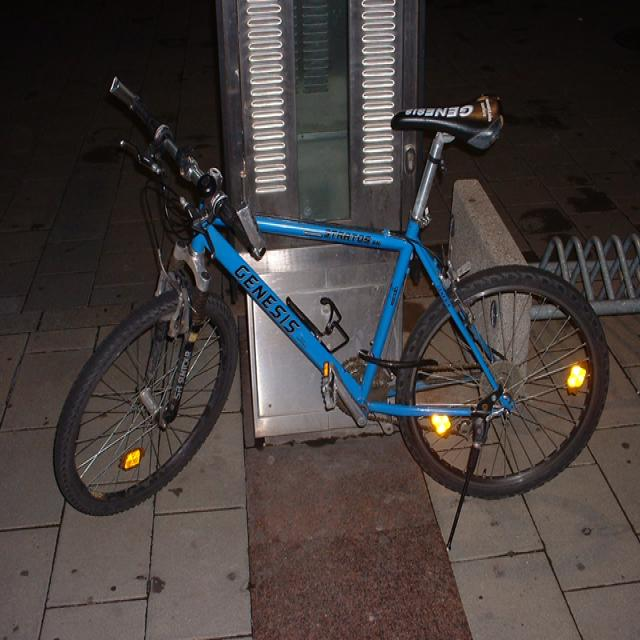bicycle: (52, 75, 610, 533)
